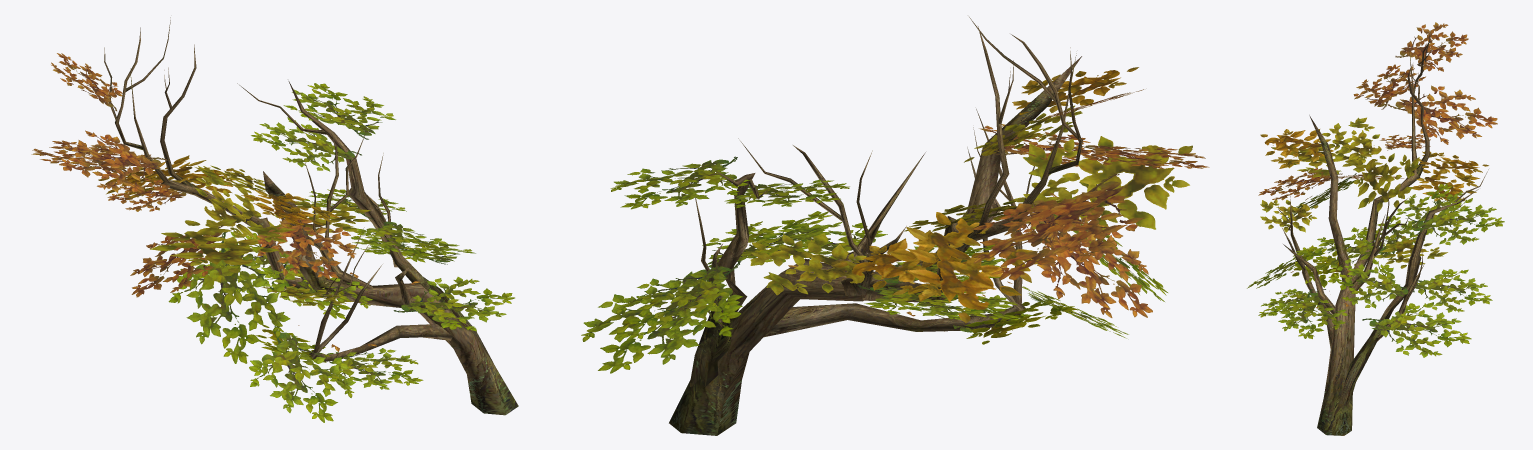
File: S_Tree_Green035.FBX
3 views of the same model, side by side, from view 1: azimuth 30°, elevation 25°; view 2: azimuth 150°, elevation 25°; view 3: azimuth 270°, elevation 25° (orthographic). The views are drawn at different scales.
Visible parts, largest first — view 1: S_Tree_Green035; view 2: S_Tree_Green035; view 3: S_Tree_Green035.
Boxes of the visible parts, x1,y1,x2,y2 form: S_Tree_Green035: (31,17,518,422); S_Tree_Green035: (581,17,1209,435); S_Tree_Green035: (1247,22,1504,435).
Bounding box in the file's own units: 609 × 445 × 519.
